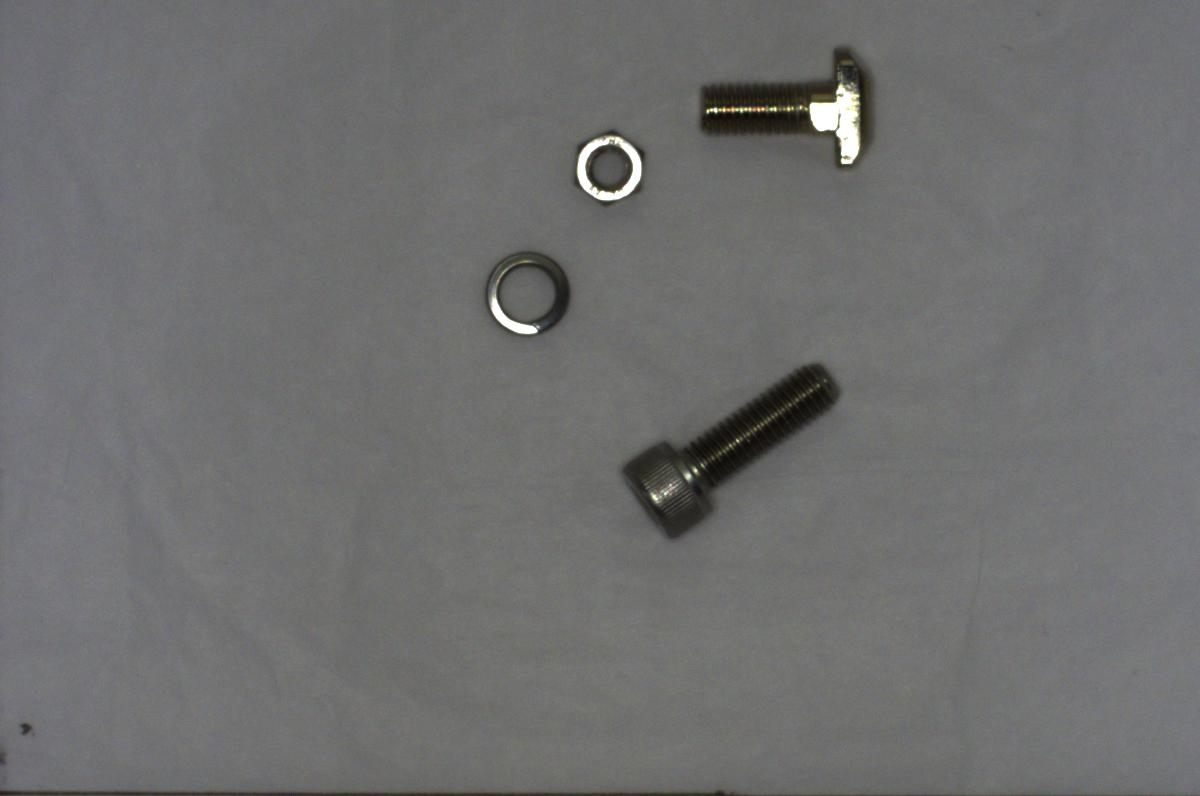Hexagon nut: (560, 121, 660, 209)
Hexagon screw: (608, 347, 854, 549)
Spring washer: (477, 243, 573, 342)
T-shaped screw: (694, 38, 873, 179)
